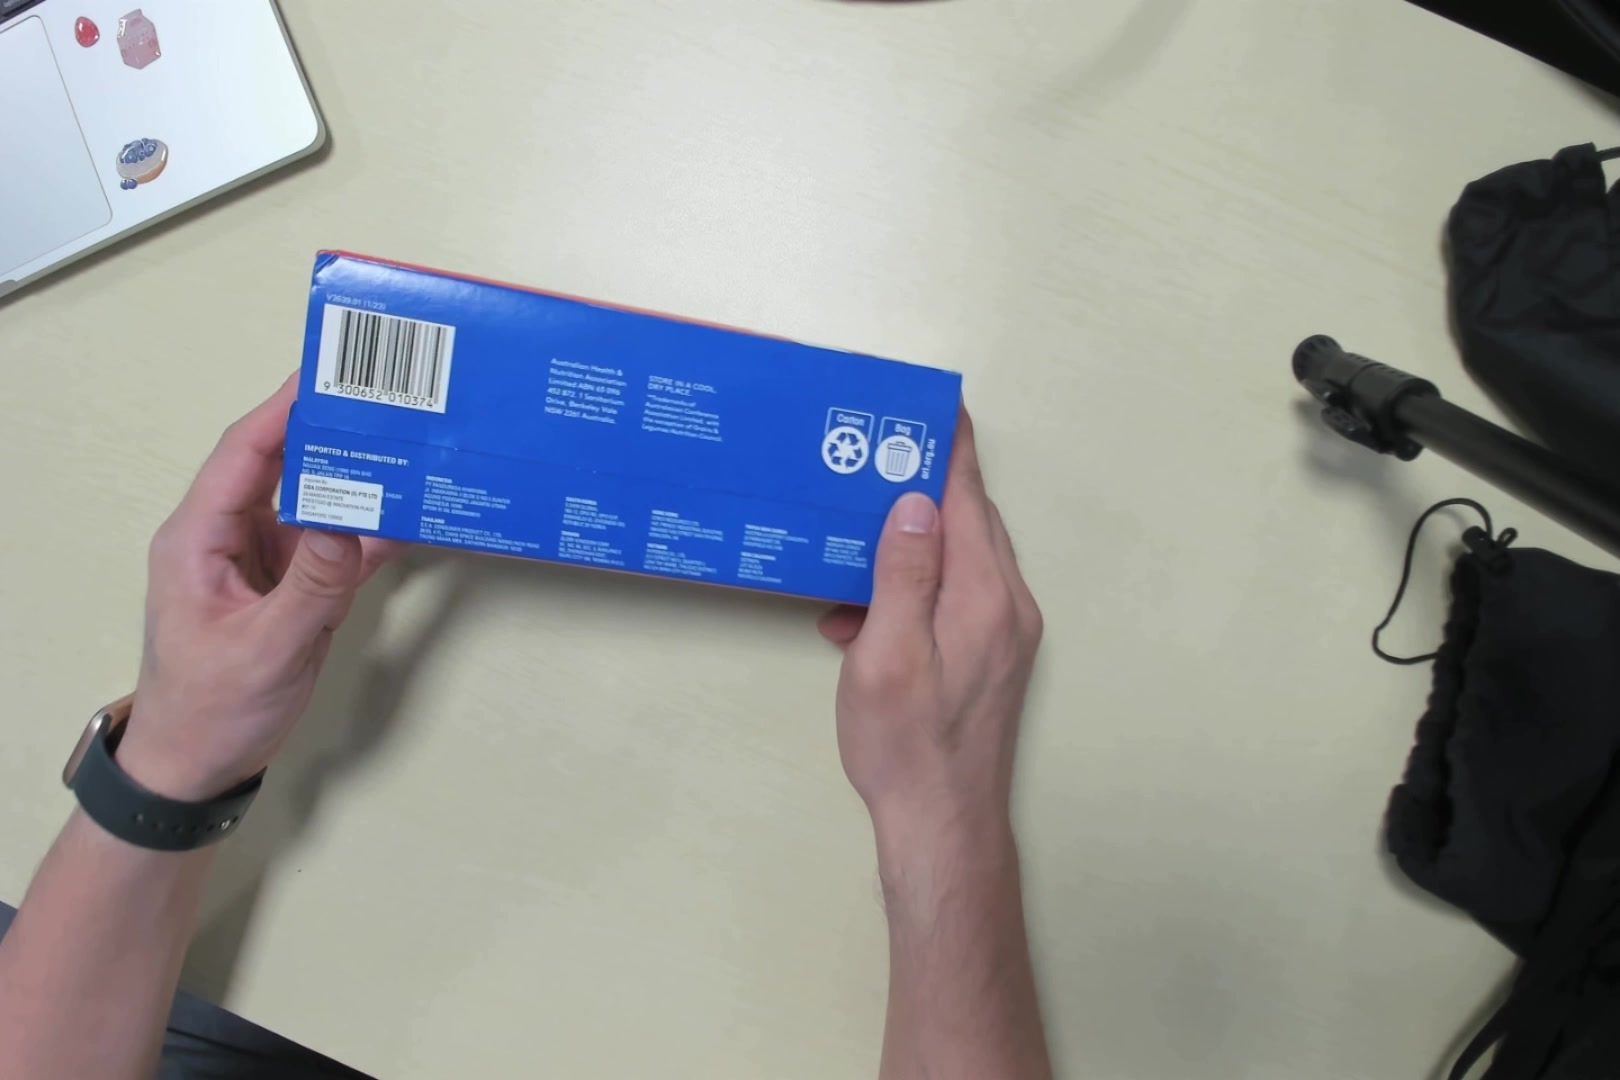BreakfastCereals_300-399g_NonHalal_NonHealthy: (290, 250, 953, 607)
